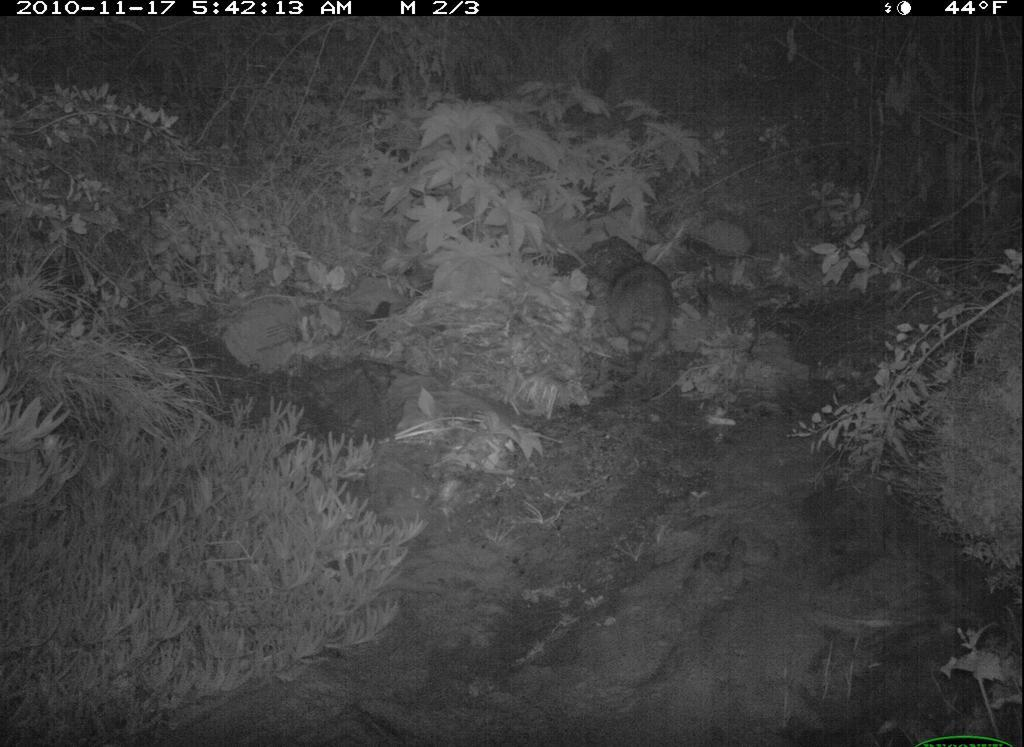raccoon: (604, 249, 684, 379)
